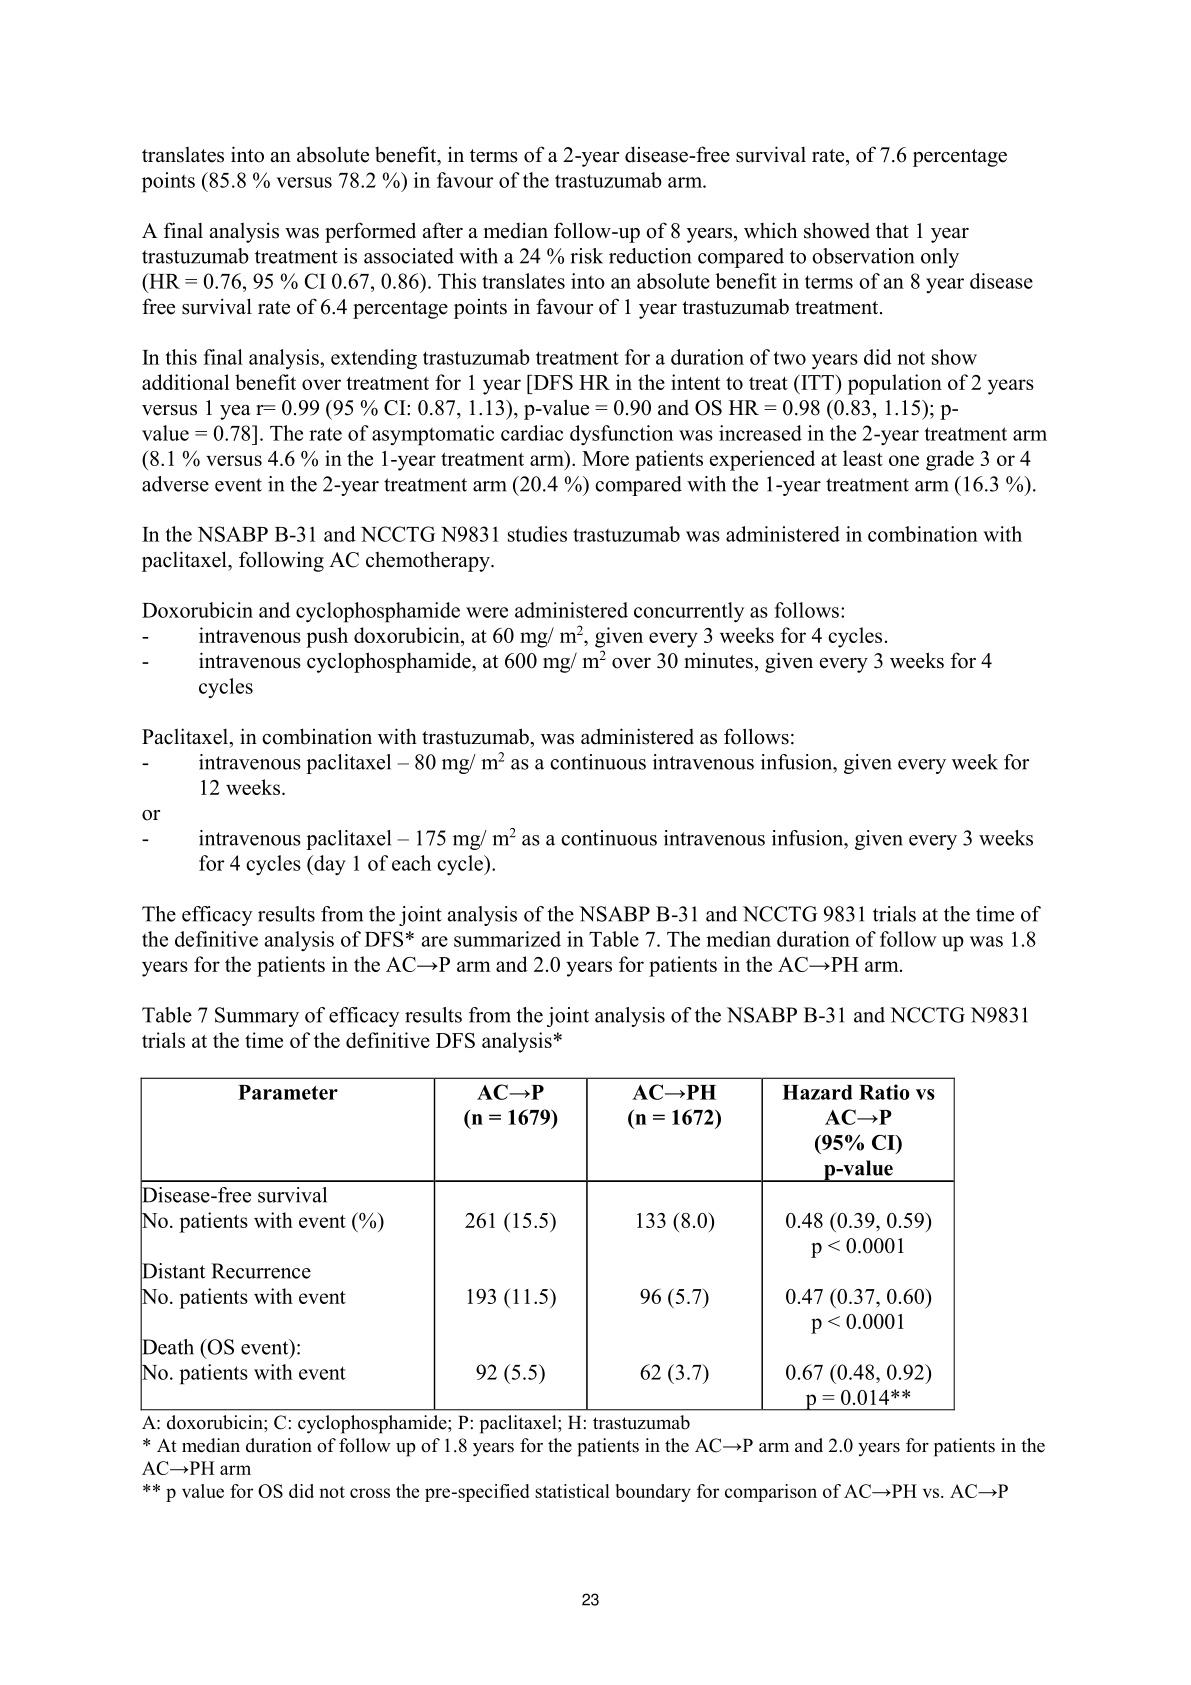partial_lined: (139, 1076, 956, 1412)
